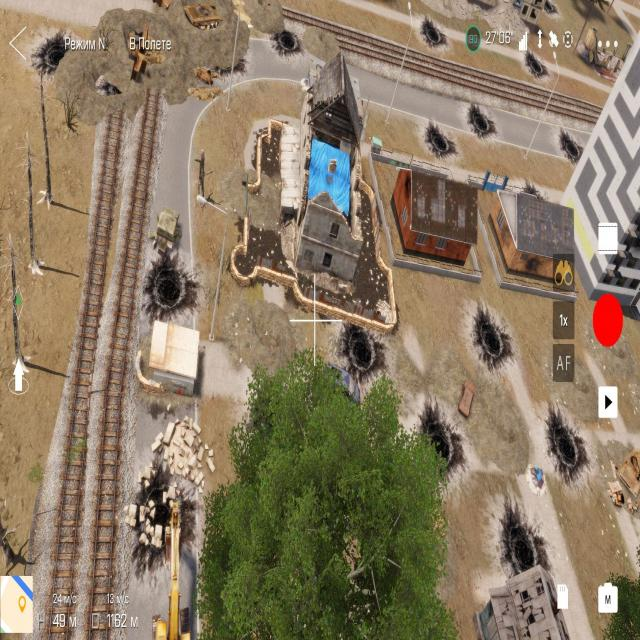fortification: (235, 46, 399, 340), (558, 0, 640, 319), (389, 152, 480, 286), (492, 169, 581, 297), (130, 315, 212, 419), (483, 555, 573, 640)
vehicle: (152, 501, 209, 640), (117, 20, 168, 77), (146, 191, 184, 263), (447, 377, 484, 438), (182, 0, 222, 34), (195, 63, 213, 88)
